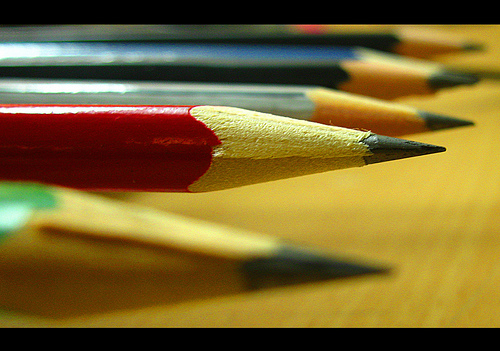pen_tip: (166, 102, 443, 204)
